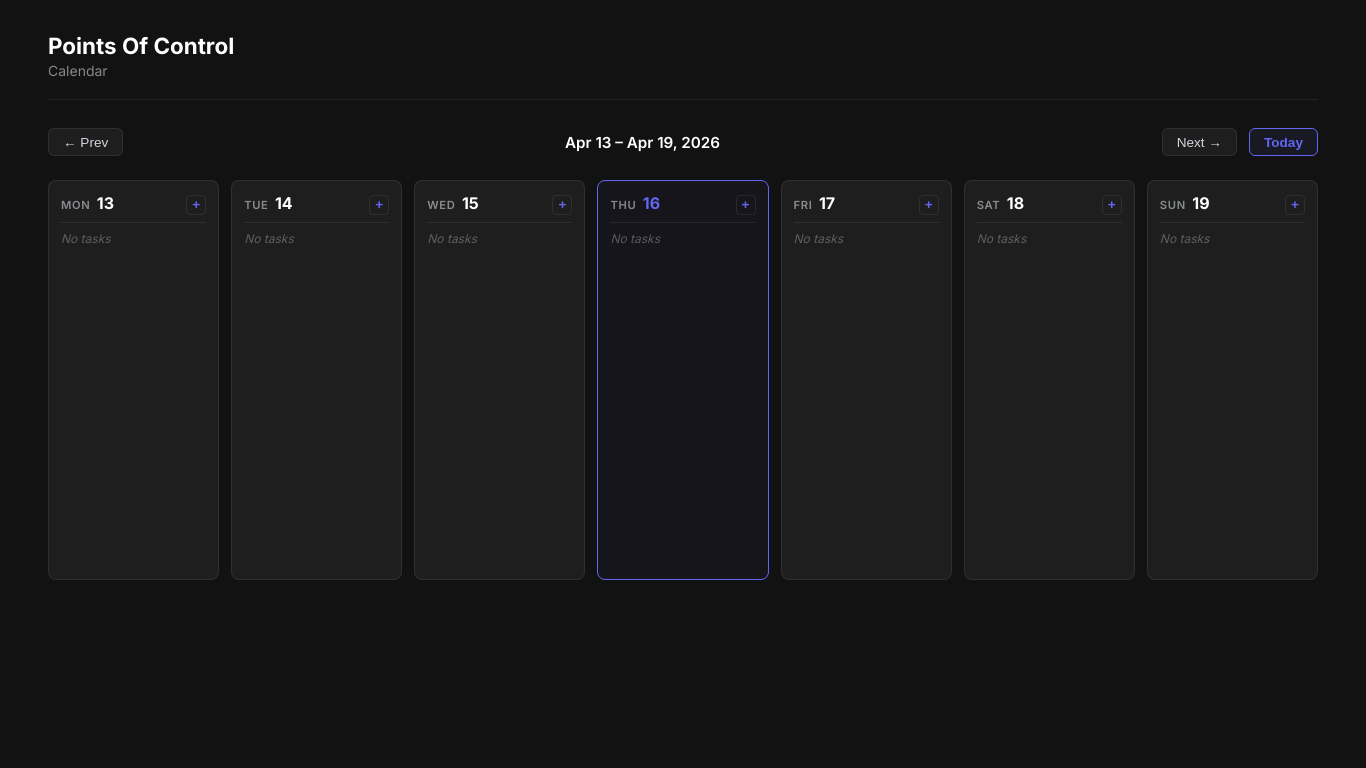
Test case: Calendar — task management (U10b) › creates a new task via POST and appends it to the grid
Check: the text "Mon" is shown, box [61, 198, 90, 212]
Click the button titled "Add task" in the row of "Mon" at point(196, 205), box [186, 195, 206, 215]
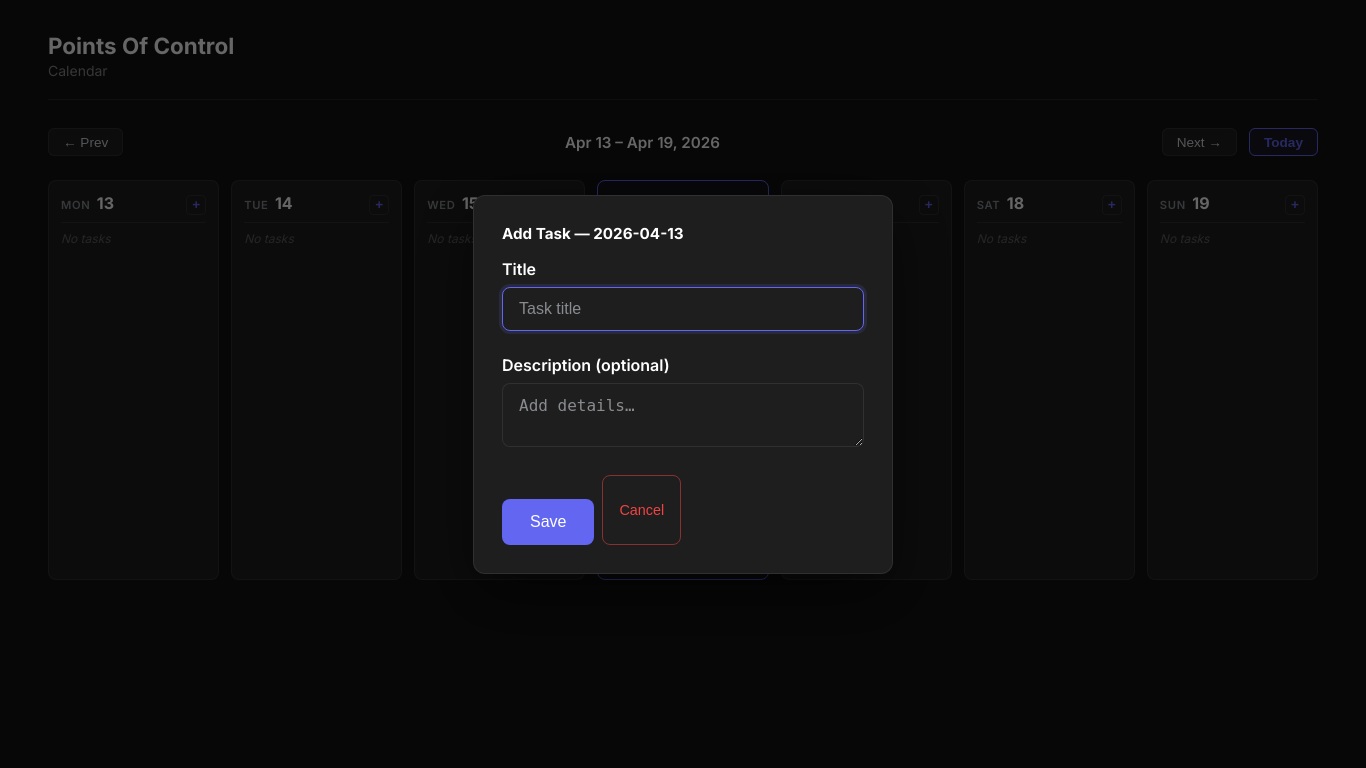
Type "My Task" into the field with placeholder "Task title" at point(683, 308), box [502, 286, 864, 330]
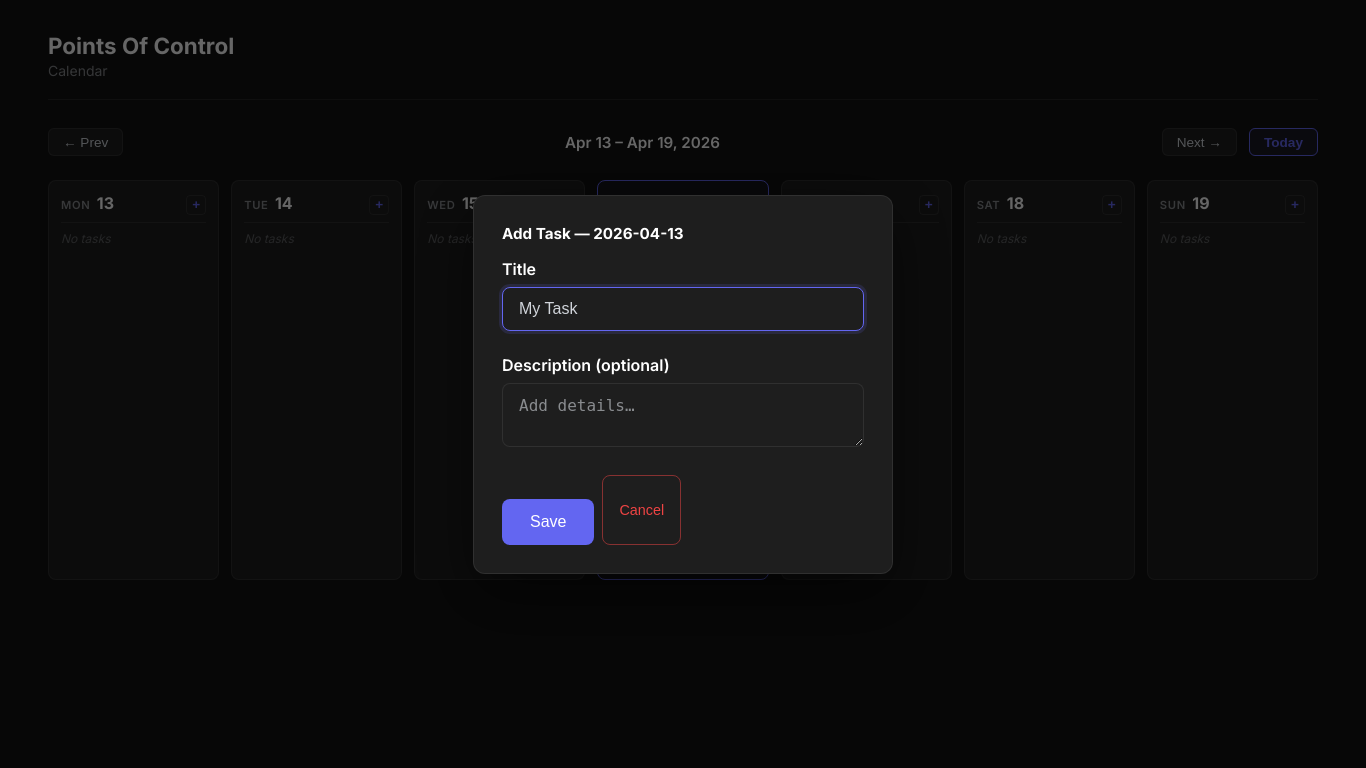
Click the button "Save" at point(548, 522), box [502, 498, 594, 544]
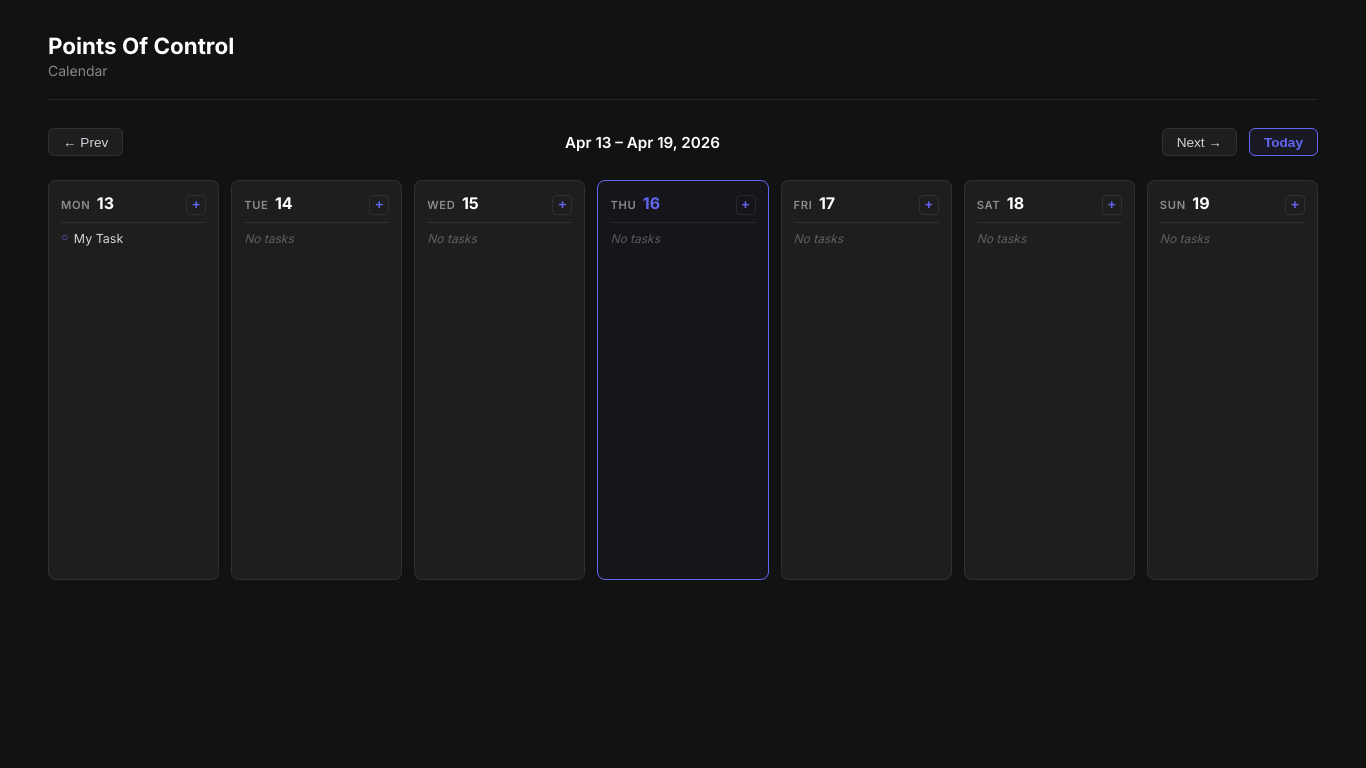
Check: the text "My Task" is shown, box [74, 231, 123, 247]
